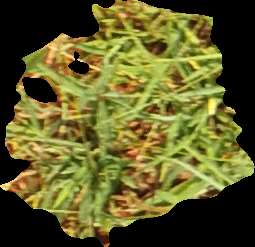grass: (2, 1, 254, 245)
